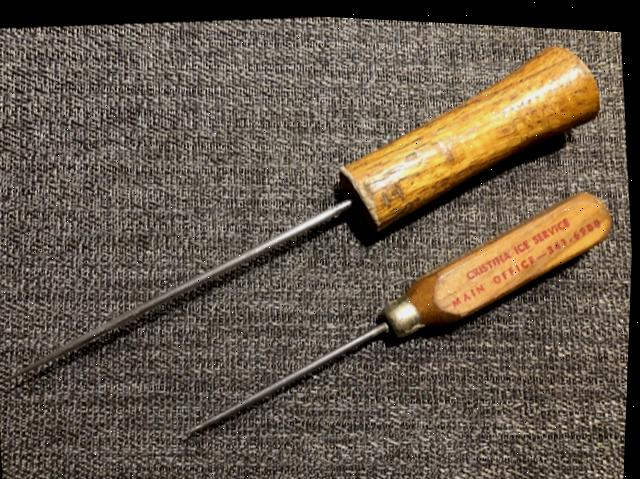ice pick: (0, 12, 626, 409), (164, 165, 633, 453)
